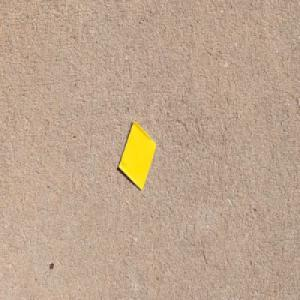PlasticPart: (117, 119, 156, 191)
